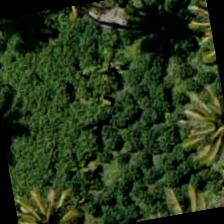Kelapa_Sawit: (171, 76, 223, 174), (12, 176, 93, 223)
